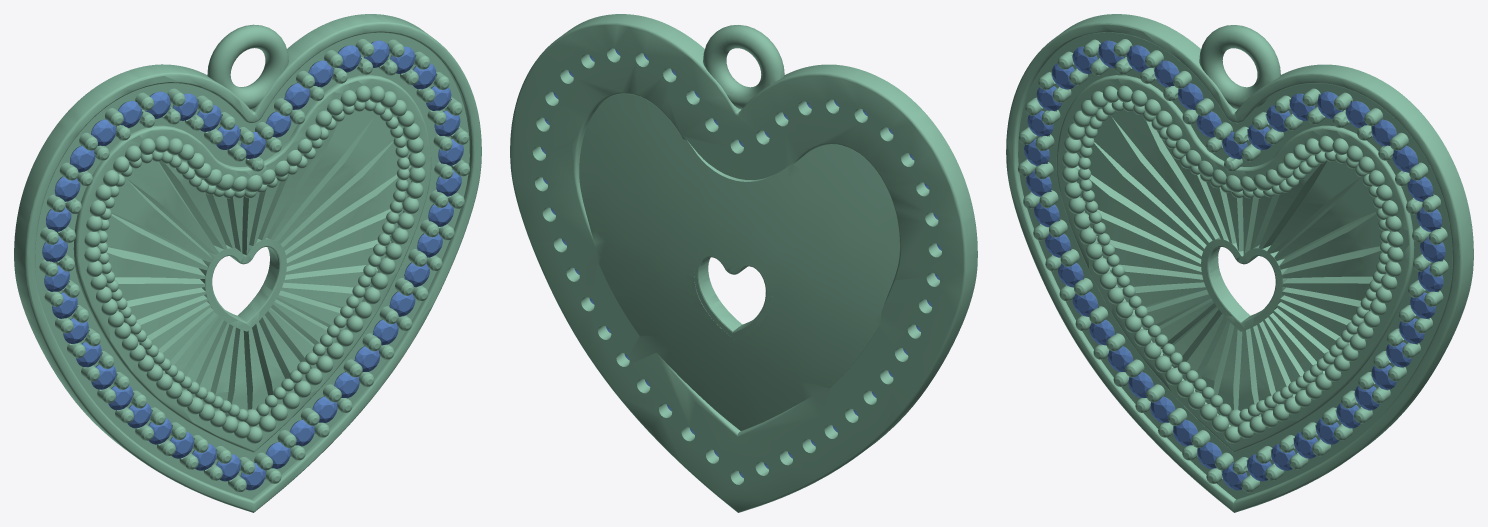
The picture shows the model from 3 angles, left to right: view 1: azimuth 30°, elevation 25°; view 2: azimuth 150°, elevation 25°; view 3: azimuth 330°, elevation 25°; orthographic projection.
Visible parts, largest first — view 1: object 1; view 2: object 1; view 3: object 1.
Boxes of the visible parts, x1,y1,x2,y2 form: object 1: [14, 14, 481, 512]; object 1: [510, 14, 977, 512]; object 1: [1006, 14, 1473, 512].
Bounding box in the file's own units: 2.81 × 2.83 × 0.2601.
